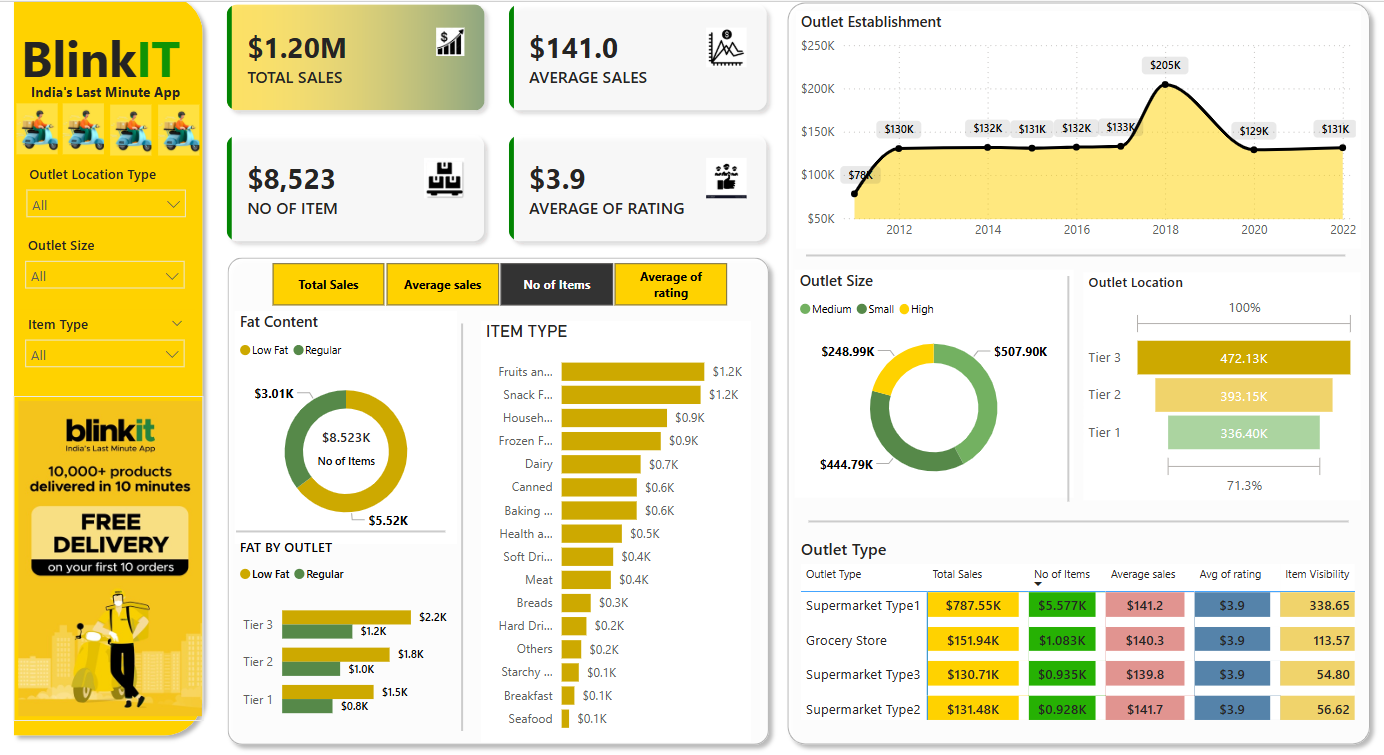

What the dashboard file says about the page in this screenshot:
{"tool":"powerbi","page":{"name":"Page 1","canvas":[1400,800],"ordinal":0},"visuals":[{"type":"shape","box":[18.8,25,205,751.2],"z":0},{"type":"textbox","box":[29.5,57.6,176.9,73.7],"z":1000},{"type":"textbox","box":[34.9,115.3,167.6,32.2],"z":2000},{"type":"cardVisual","fields":{"Data":["BlinkIT Grocery Data.Total Sales","BlinkIT Grocery Data.Average sales","BlinkIT Grocery Data.No of Items","BlinkIT Grocery Data.Average of rating"]},"box":[221.2,25.5,569.7,269.4],"z":3000},{"type":"shape","box":[230.6,284.2,553.6,500],"z":4000},{"type":"slicer","fields":{"Values":["Metric.Metric"]},"box":[257.4,292.2,500,53.6],"z":5000},{"type":"donutChart","title":"Fat Content","fields":{"Y":["BlinkIT Grocery Data.No of Items"],"Category":["BlinkIT Grocery Data.Item Fat Content"]},"box":[246.7,345.8,219.8,230.6],"z":6000},{"type":"cardVisual","fields":{"Data":["BlinkIT Grocery Data.No of Items"]},"box":[294.9,439.7,124.7,84.5],"z":7000},{"type":"clusteredBarChart","title":"FAT BY OUTLET","fields":{"Y":["BlinkIT Grocery Data.No of Items"],"Category":["BlinkIT Grocery Data.Outlet Location Type"],"Series":["BlinkIT Grocery Data.Item Fat Content"]},"box":[246.7,569.7,219.8,195.7],"z":8000},{"type":"shape","box":[247.9,557.1,207.1,15.7],"z":9000},{"type":"shape","box":[452.9,358.6,37.1,402.9],"z":10000},{"type":"barChart","title":"ITEM TYPE","fields":{"Y":["BlinkIT Grocery Data.No of Items"],"Category":["BlinkIT Grocery Data.Item Type"]},"box":[490,355.7,267.1,417.1],"z":11000},{"type":"shape","box":[784.5,32.4,594.4,752.1],"z":12000},{"type":"lineChart","title":"Outlet Establishment","fields":{"Category":["BlinkIT Grocery Data.Outlet Establishment Year"],"Y":["BlinkIT Grocery Data.Total Sales"]},"box":[801.4,49.3,559.2,235.2],"z":13000},{"type":"shape","box":[811.5,278.5,533.8,26.2],"z":14000},{"type":"donutChart","title":"Outlet Size","fields":{"Category":["BlinkIT Grocery Data.Outlet Size"],"Y":["BlinkIT Grocery Data.Total Sales"]},"box":[800,305.7,275.7,225.7],"z":15000},{"type":"shape","box":[1052.9,311.4,37.1,222.9],"z":16000},{"type":"funnel","title":"Outlet Location ","fields":{"Y":["Sum(BlinkIT Grocery Data.Sales)"],"Category":["BlinkIT Grocery Data.Outlet Location Type"]},"box":[1085.7,308.6,274.3,225.7],"z":17000},{"type":"shape","box":[814.3,541.4,534.3,25.7],"z":18000},{"type":"pivotTable","title":"Outlet Type","fields":{"Rows":["BlinkIT Grocery Data.Outlet Type"],"Values":["BlinkIT Grocery Data.Total Sales","BlinkIT Grocery Data.No of Items","BlinkIT Grocery Data.Average sales","BlinkIT Grocery Data.Average of rating","Sum(BlinkIT Grocery Data.Item Visibility)"]},"box":[801.4,570,560,191.4],"z":19000},{"type":"slicer","fields":{"Values":["BlinkIT Grocery Data.Outlet Location Type"]},"box":[29.5,197.1,178.3,65.7],"z":20000},{"type":"slicer","fields":{"Values":["BlinkIT Grocery Data.Outlet Size"]},"box":[28.2,266.8,178.3,67],"z":21000},{"type":"slicer","fields":{"Values":["BlinkIT Grocery Data.Item Type"]},"box":[28.2,344.5,178.3,67],"z":22000},{"type":"image","box":[26.8,430.3,189,321.7],"z":23000},{"type":"image","box":[17.7,136.1,66,60.5],"z":24000},{"type":"image","box":[63.3,136.1,66,60.5],"z":25000},{"type":"image","box":[157.8,136.7,65.3,59.9],"z":26000},{"type":"image","box":[109.5,136.7,66,59.9],"z":27000}]}

Visuals, with their boxes on the page's 1400x800 design canvas (x1, y1, x2, y2). These are canvas units, not pixel positions in the 1384x755 screenshot, which may show the page scaled, cropped or inside an application window:
shape: <region>19, 25, 224, 776</region>
textbox: <region>30, 58, 206, 131</region>
textbox: <region>35, 115, 202, 148</region>
cardVisual - BlinkIT Grocery Data.Total Sales x BlinkIT Grocery Data.Average sales: <region>221, 26, 791, 295</region>
shape: <region>231, 284, 784, 784</region>
slicer - Metric.Metric: <region>257, 292, 757, 346</region>
"Fat Content" donutChart: <region>247, 346, 466, 576</region>
cardVisual - BlinkIT Grocery Data.No of Items: <region>295, 440, 420, 524</region>
"FAT BY OUTLET" clusteredBarChart: <region>247, 570, 466, 765</region>
shape: <region>248, 557, 455, 573</region>
shape: <region>453, 359, 490, 762</region>
"ITEM TYPE" barChart: <region>490, 356, 757, 773</region>
shape: <region>784, 32, 1379, 784</region>
"Outlet Establishment" lineChart: <region>801, 49, 1361, 284</region>
shape: <region>812, 278, 1345, 305</region>
"Outlet Size" donutChart: <region>800, 306, 1076, 531</region>
shape: <region>1053, 311, 1090, 534</region>
"Outlet Location " funnel: <region>1086, 309, 1360, 534</region>
shape: <region>814, 541, 1349, 567</region>
"Outlet Type" pivotTable: <region>801, 570, 1361, 761</region>
slicer - BlinkIT Grocery Data.Outlet Location Type: <region>30, 197, 208, 263</region>
slicer - BlinkIT Grocery Data.Outlet Size: <region>28, 267, 206, 334</region>
slicer - BlinkIT Grocery Data.Item Type: <region>28, 344, 206, 412</region>
image: <region>27, 430, 216, 752</region>
image: <region>18, 136, 84, 197</region>
image: <region>63, 136, 129, 197</region>
image: <region>158, 137, 223, 197</region>
image: <region>110, 137, 176, 197</region>
